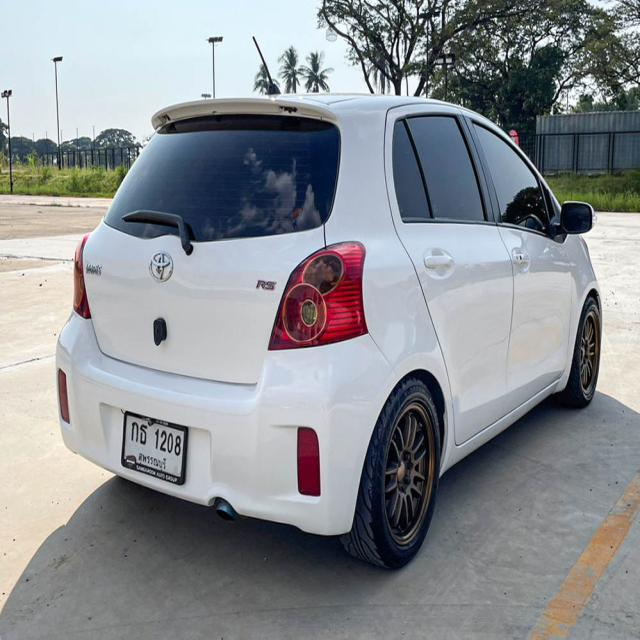license_plate: (115, 408, 196, 492)
